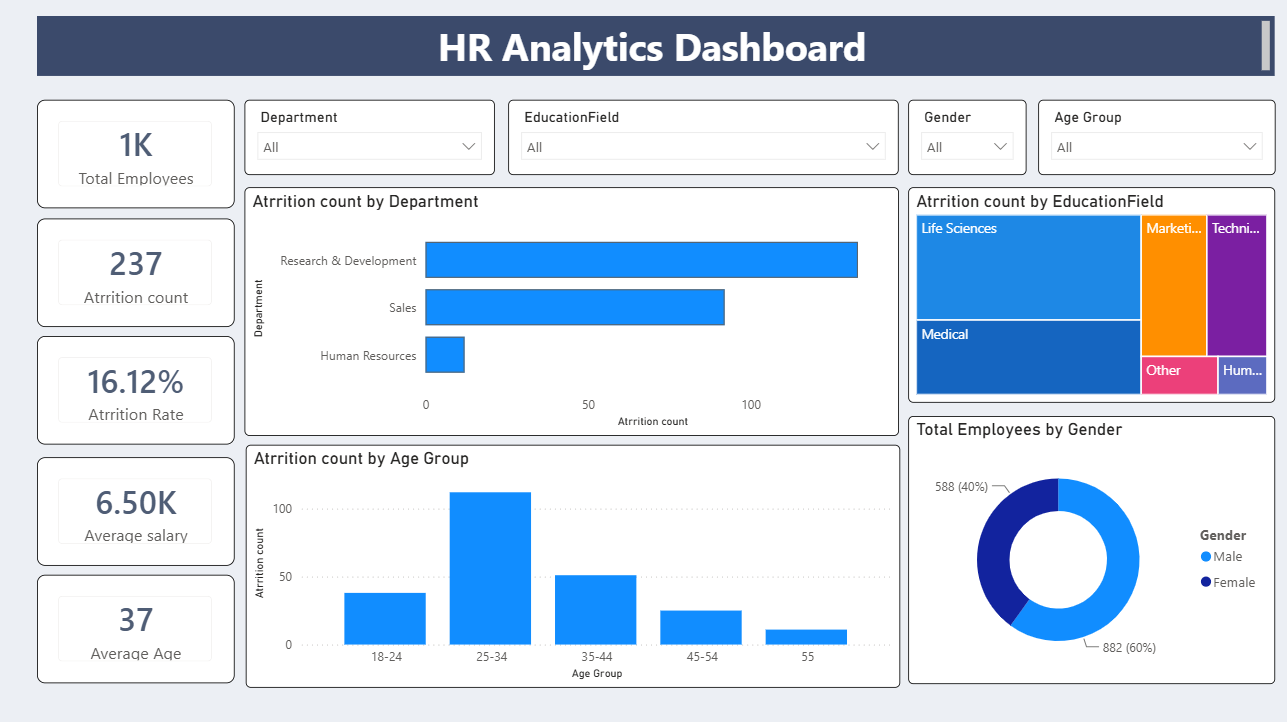

What the dashboard file says about the page in this screenshot:
{"tool":"powerbi","page":{"name":"Page 1","canvas":[1280,720],"ordinal":0},"visuals":[{"type":"cardVisual","fields":{"Data":["HR_Project_Power BI (1).Total Employees"]},"box":[39.8,102.9,194.9,107],"z":0},{"type":"cardVisual","fields":{"Data":["HR_Project_Power BI (1).Atrrition count"]},"box":[39.8,219.6,194.9,107],"z":1000},{"type":"cardVisual","fields":{"Data":["HR_Project_Power BI (1).Average Age"]},"box":[39.8,572.2,194.9,107],"z":2000},{"type":"cardVisual","fields":{"Data":["HR_Project_Power BI (1).Atrrition Rate"]},"box":[39.8,336.2,194.9,107],"z":3000},{"type":"cardVisual","fields":{"Data":["HR_Project_Power BI (1).Average salary"]},"box":[39.8,455.6,194.9,107],"z":4000},{"type":"clusteredBarChart","fields":{"Y":["HR_Project_Power BI (1).Atrrition count"],"Category":["HR_Project_Power BI (1).Department"]},"box":[244.3,189.4,646.3,245.6],"z":5000},{"type":"donutChart","fields":{"Y":["HR_Project_Power BI (1).Total Employees"],"Category":["HR_Project_Power BI (1).Gender"]},"box":[900.2,414.4,362.3,264.8],"z":6000},{"type":"columnChart","fields":{"Y":["HR_Project_Power BI (1).Atrrition count"],"Category":["HR_Project_Power BI (1).Age Group"]},"box":[245.6,443.2,646.3,240.1],"z":7000},{"type":"slicer","fields":{"Values":["HR_Project_Power BI (1).Department"]},"box":[244.3,102.9,247,74.1],"z":8000},{"type":"slicer","fields":{"Values":["HR_Project_Power BI (1).Gender"]},"box":[900.2,102.9,116.6,74.1],"z":9000},{"type":"slicer","fields":{"Values":["HR_Project_Power BI (1).Age Group"]},"box":[1027.8,102.9,234.6,74.1],"z":10000},{"type":"slicer","fields":{"Values":["HR_Project_Power BI (1).EducationField"]},"box":[505,102.9,385.6,74.1],"z":11000},{"type":"textbox","box":[39.8,19.2,1222.6,59],"z":12000},{"type":"treemap","fields":{"Values":["HR_Project_Power BI (1).Atrrition count"],"Group":["HR_Project_Power BI (1).EducationField"]},"box":[900.2,189.4,362.3,212.7],"z":13000}]}

Visuals, with their boxes in screenshot pixels (x1, y1, x2, y2), scaled from the page's 1280x720 canvas onto the 1287x722 screenshot:
cardVisual - HR_Project_Power BI (1).Total Employees: select_region(40, 103, 236, 210)
cardVisual - HR_Project_Power BI (1).Atrrition count: select_region(40, 220, 236, 328)
cardVisual - HR_Project_Power BI (1).Average Age: select_region(40, 574, 236, 681)
cardVisual - HR_Project_Power BI (1).Atrrition Rate: select_region(40, 337, 236, 444)
cardVisual - HR_Project_Power BI (1).Average salary: select_region(40, 457, 236, 564)
clusteredBarChart - HR_Project_Power BI (1).Atrrition count x HR_Project_Power BI (1).Department: select_region(246, 190, 895, 436)
donutChart - HR_Project_Power BI (1).Total Employees x HR_Project_Power BI (1).Gender: select_region(905, 416, 1269, 681)
columnChart - HR_Project_Power BI (1).Atrrition count x HR_Project_Power BI (1).Age Group: select_region(247, 444, 897, 685)
slicer - HR_Project_Power BI (1).Department: select_region(246, 103, 494, 177)
slicer - HR_Project_Power BI (1).Gender: select_region(905, 103, 1022, 177)
slicer - HR_Project_Power BI (1).Age Group: select_region(1033, 103, 1269, 177)
slicer - HR_Project_Power BI (1).EducationField: select_region(508, 103, 895, 177)
textbox: select_region(40, 19, 1269, 78)
treemap - HR_Project_Power BI (1).Atrrition count x HR_Project_Power BI (1).EducationField: select_region(905, 190, 1269, 403)
